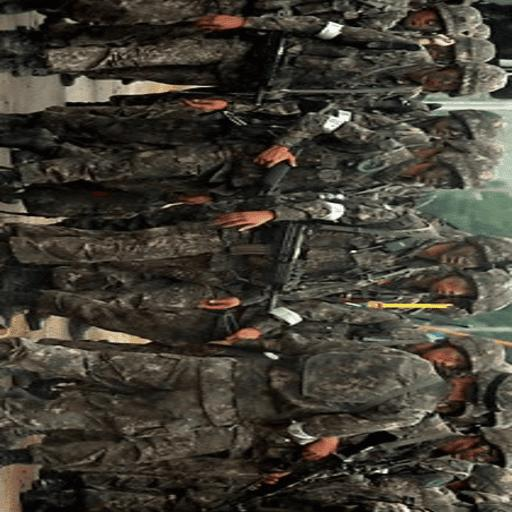korea army: (0, 3, 508, 509)
